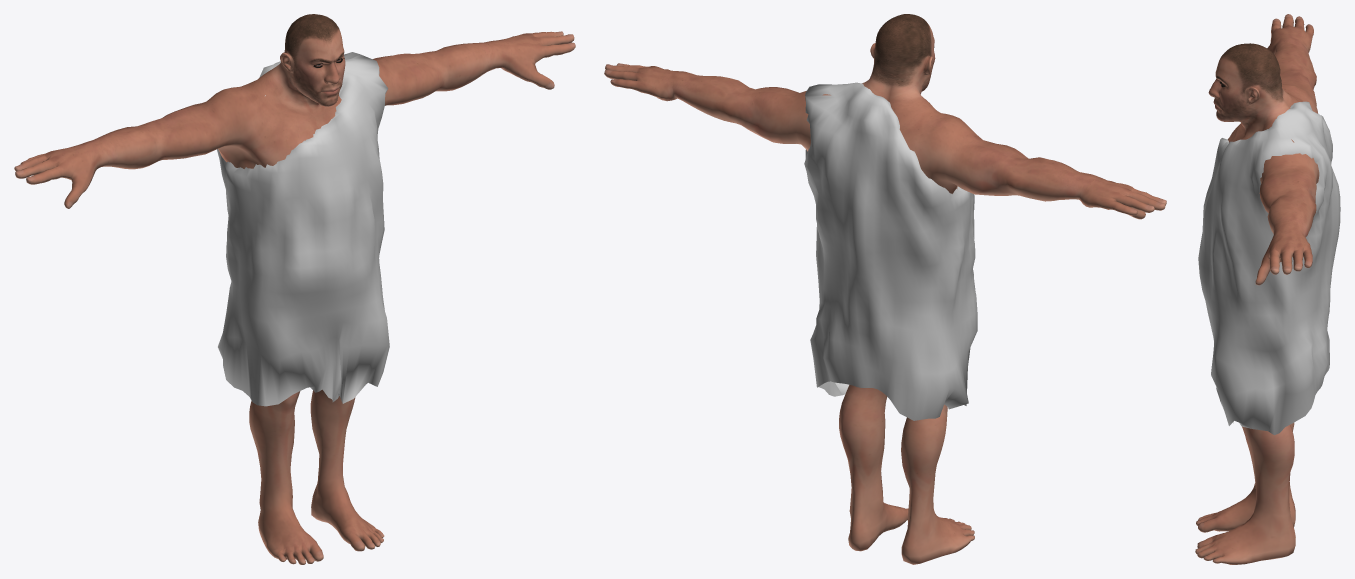
Rendered from caveman.fbx.
The picture shows the model from 3 angles, left to right: view 1: azimuth 30°, elevation 25°; view 2: azimuth 150°, elevation 25°; view 3: azimuth 270°, elevation 25°; orthographic projection. The views are drawn at different scales.
Visible parts, largest first — view 1: Sphere, caveman; view 2: Sphere, caveman; view 3: Sphere, caveman.
Boxes of the visible parts, x1,y1,x2,y2 form: Sphere: (217, 52, 389, 406); caveman: (14, 14, 575, 564); Sphere: (804, 82, 977, 420); caveman: (604, 14, 1166, 564); Sphere: (1198, 101, 1340, 435); caveman: (1195, 14, 1319, 564).
Bounding box in the file's own units: 197 × 176 × 46.52.
